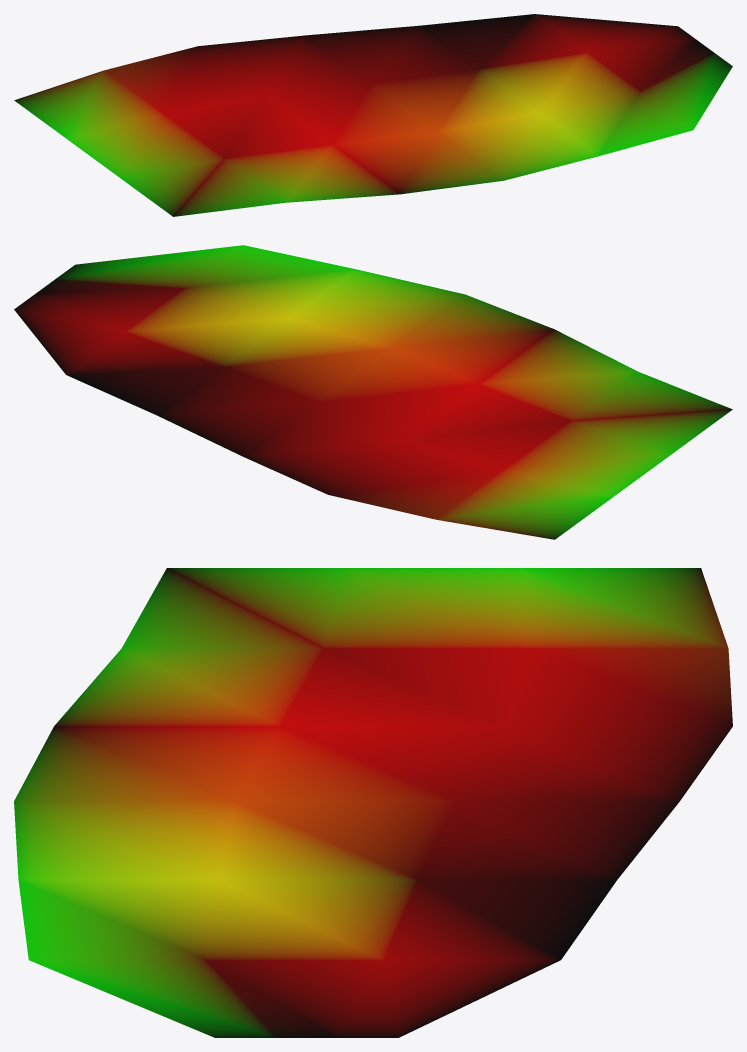
Rendered from homePond.fbx.
The picture shows the model from 3 angles, top to bottom: view 1: azimuth 30°, elevation 25°; view 2: azimuth 150°, elevation 25°; view 3: azimuth 270°, elevation 25°; orthographic projection. The views are drawn at different scales.
Parts seen in each view (by area): view 1: homePond; view 2: homePond; view 3: homePond.
Boxes of the visible parts, bbox=[...] form: homePond: bbox=[14, 14, 732, 216]; homePond: bbox=[14, 245, 732, 539]; homePond: bbox=[14, 568, 732, 1037].
Bounding box in the file's own units: 3154 × 0 × 2040.
